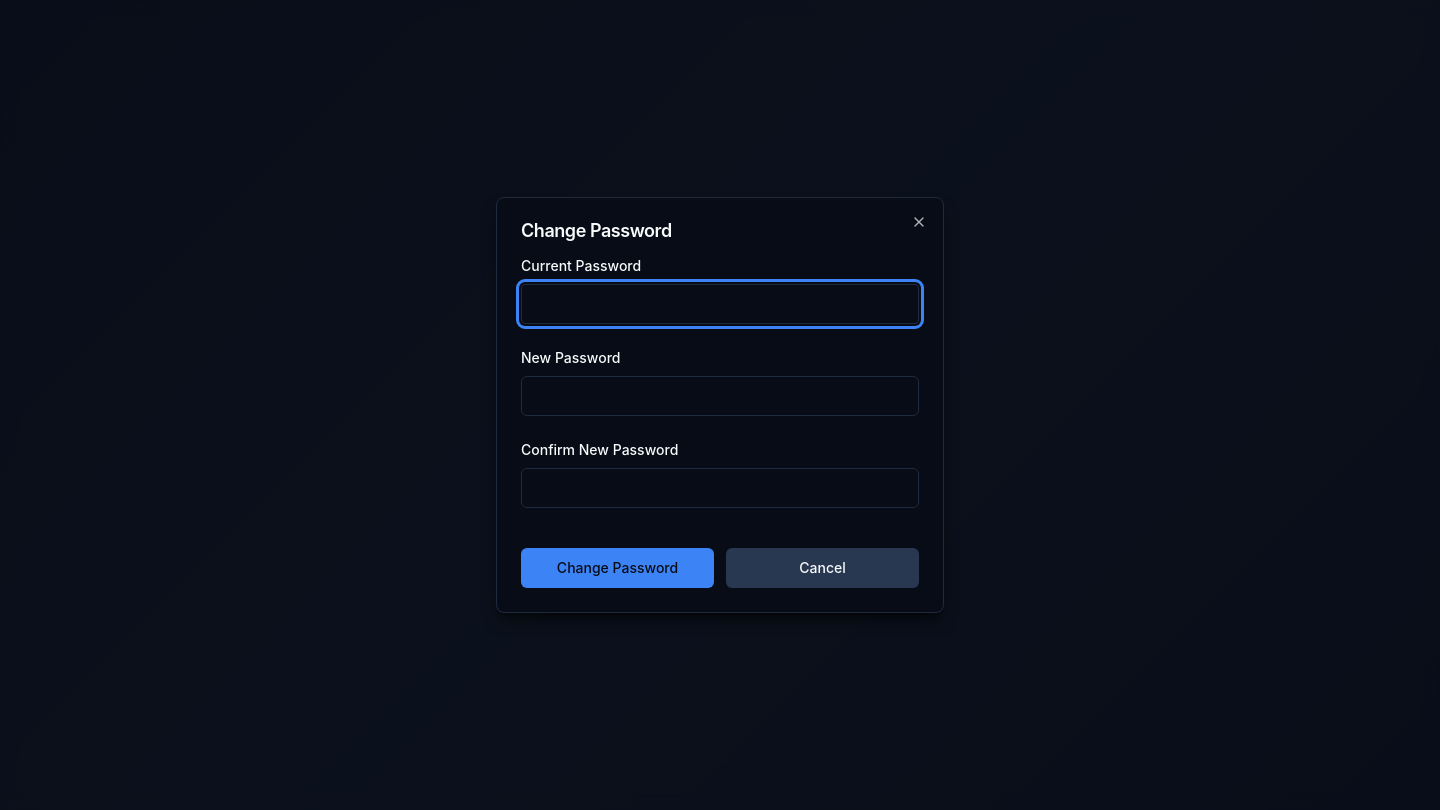
Test: ChangePasswordDialog › rejects a confirmation that does not match the new password
In the password field labelled "Current Password": (720, 304) left=521, top=284, right=919, bottom=324, type "oldpassword1"
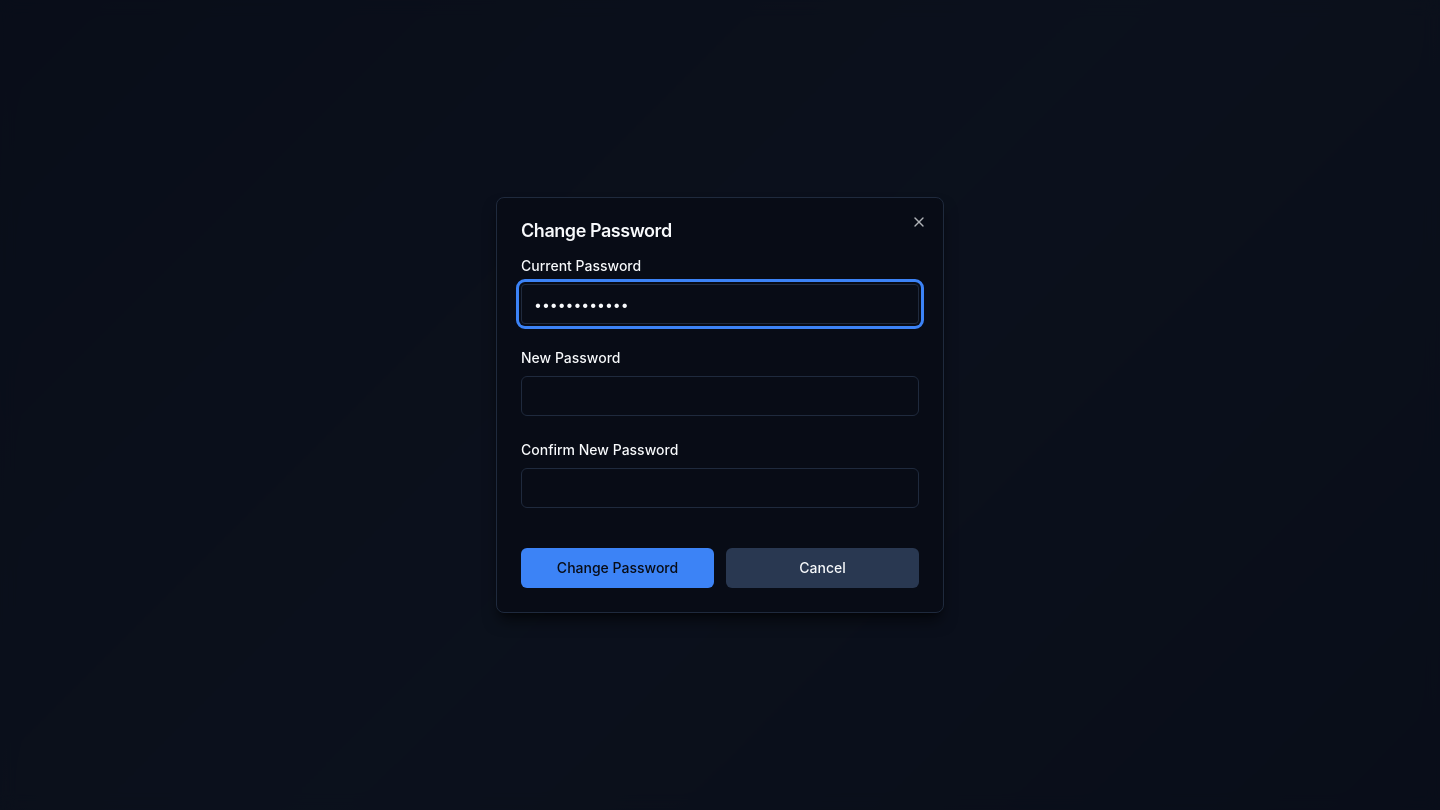
In the password field labelled "New Password": (720, 396) left=521, top=376, right=919, bottom=416, type "newpassword1"
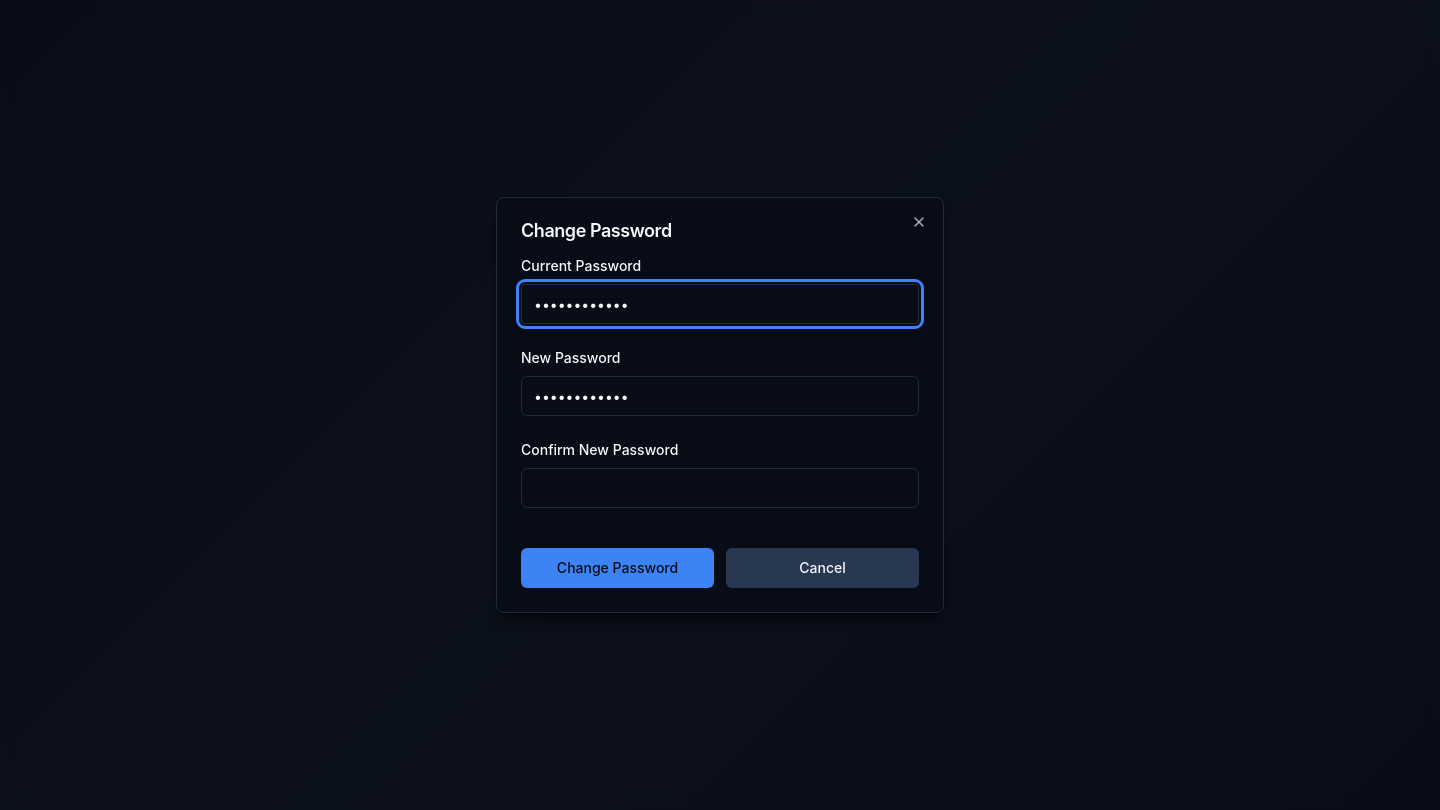
In the password field labelled "Confirm New Password": (720, 488) left=521, top=468, right=919, bottom=508, type "newpassword2"
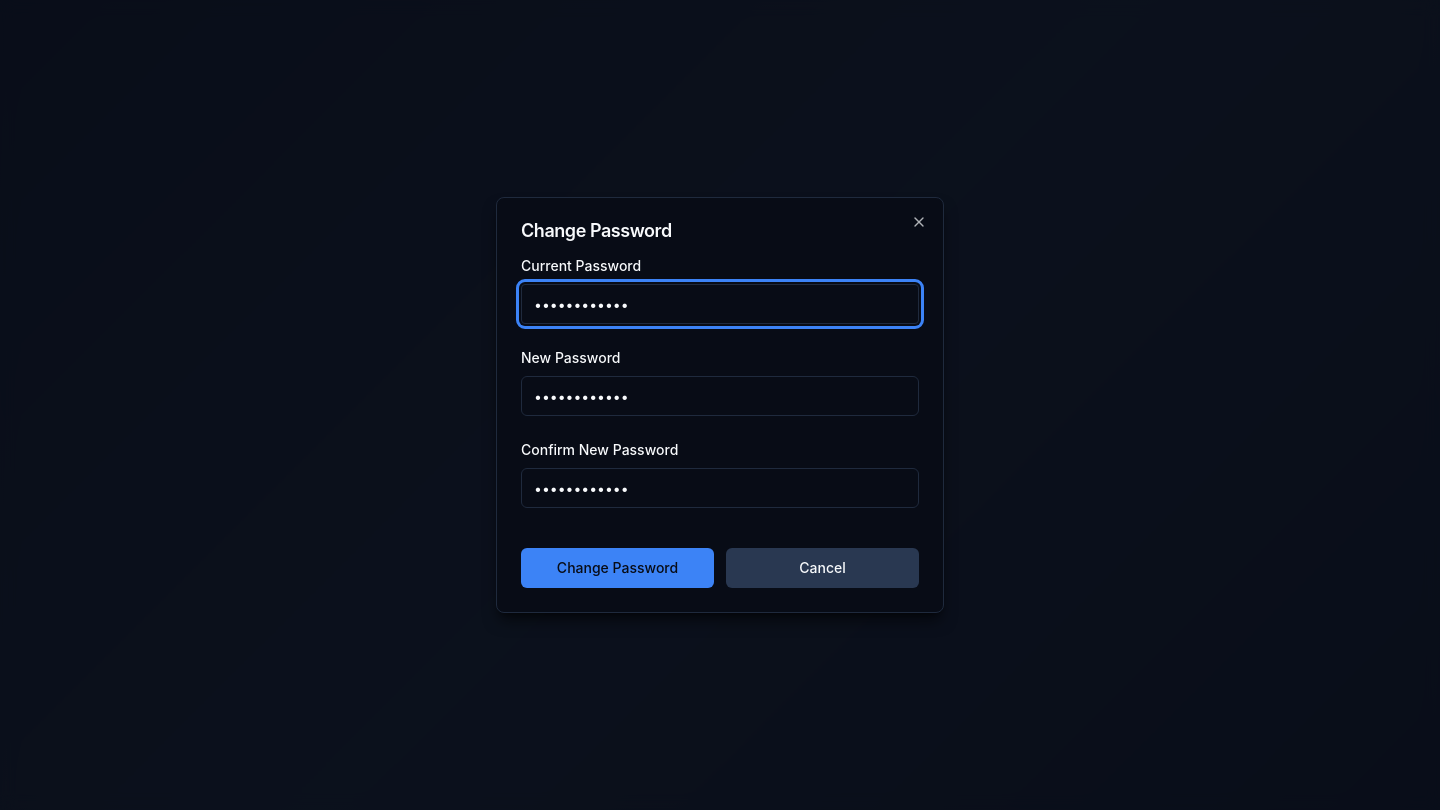
Submit the form labelled "Current Password", box left=521, top=256, right=919, bottom=588
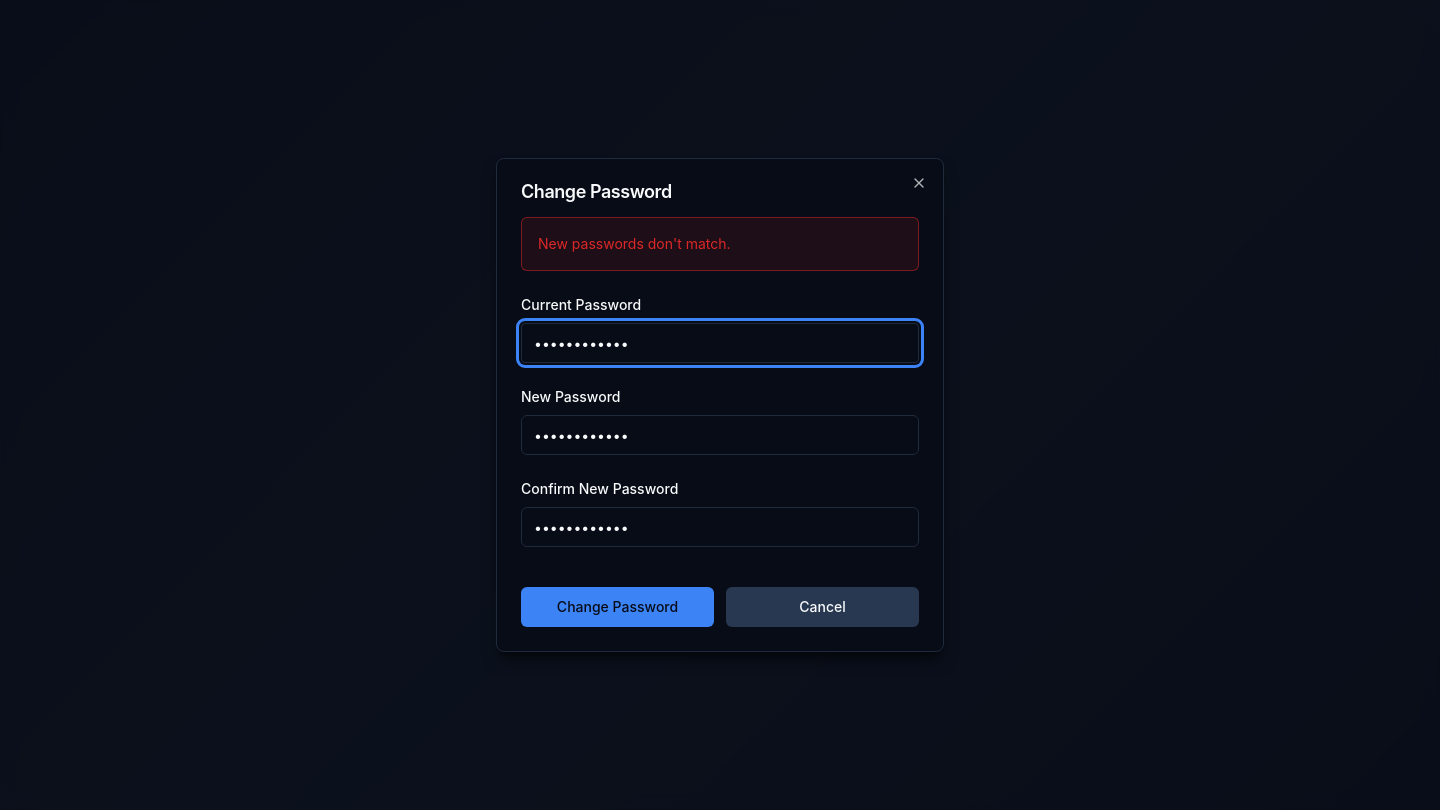
Now the text "New passwords don't match." is shown, box left=538, top=235, right=731, bottom=252
